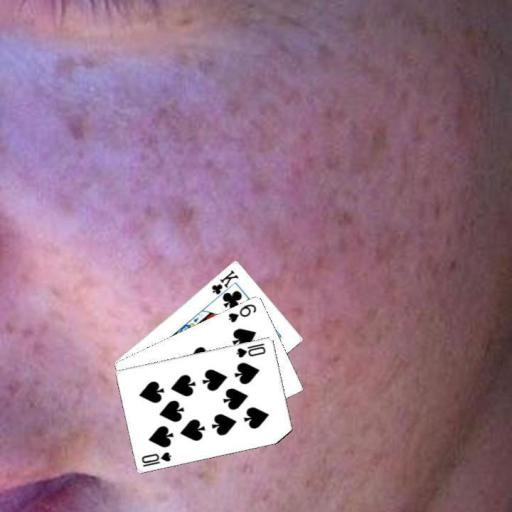card-corner: (208, 266, 240, 302), (226, 300, 258, 324), (234, 340, 268, 359), (138, 449, 172, 468)
